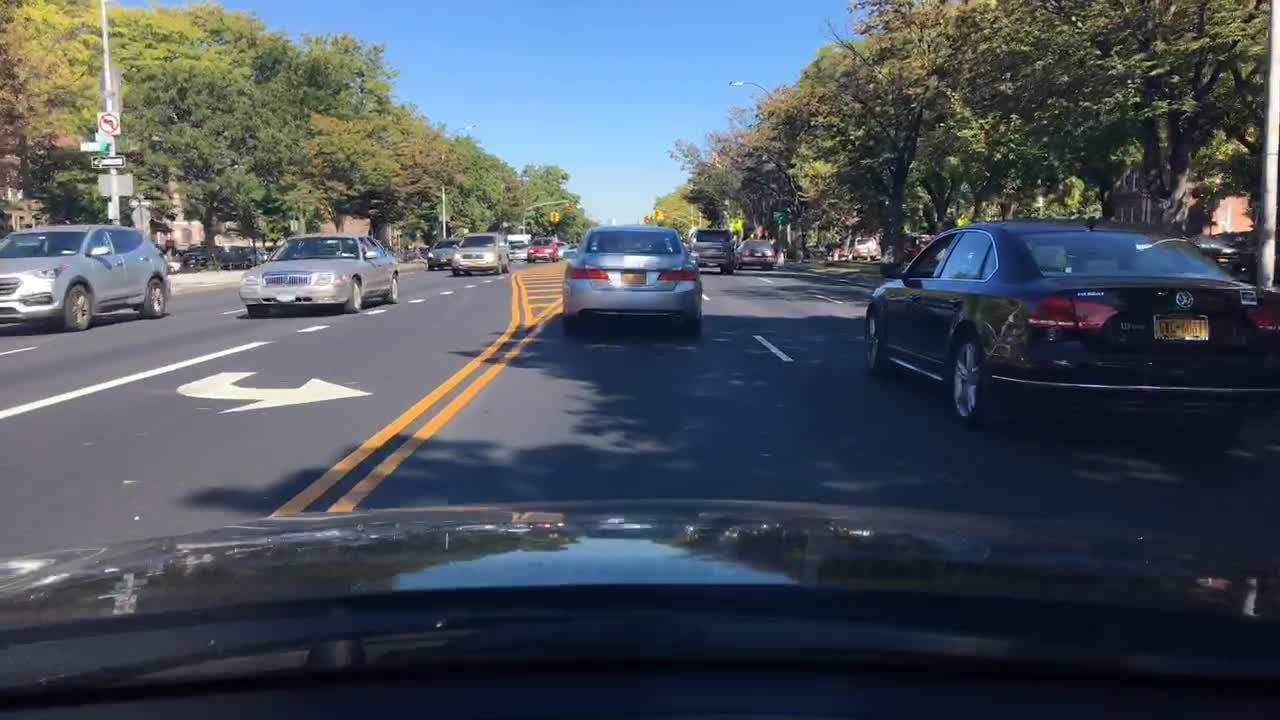Volkswagen: (1170, 289, 1199, 313)
